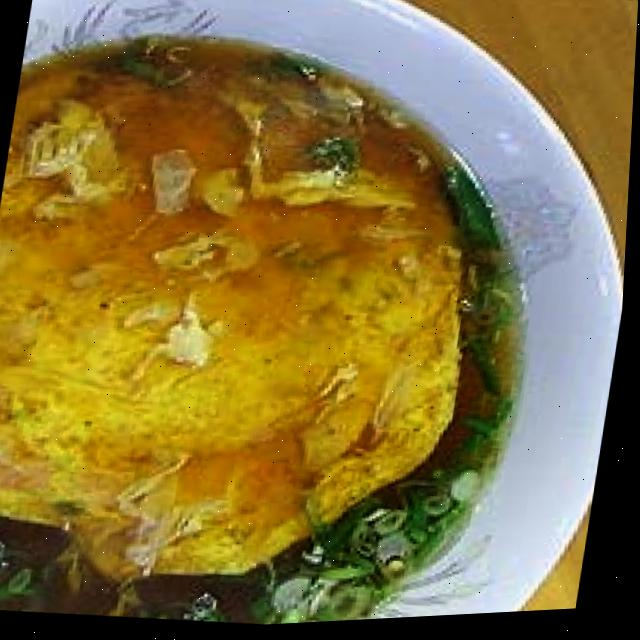面条主食: (0, 2, 577, 640)
